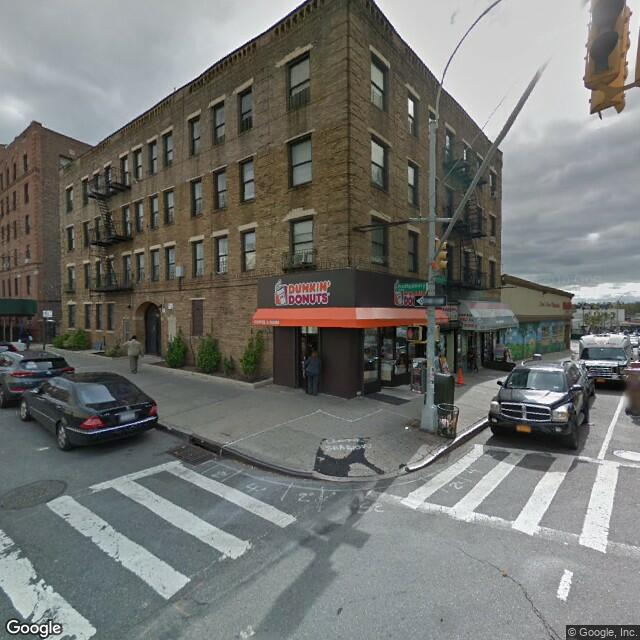litter: (175, 450, 181, 455), (405, 426, 412, 430), (182, 445, 188, 449)
